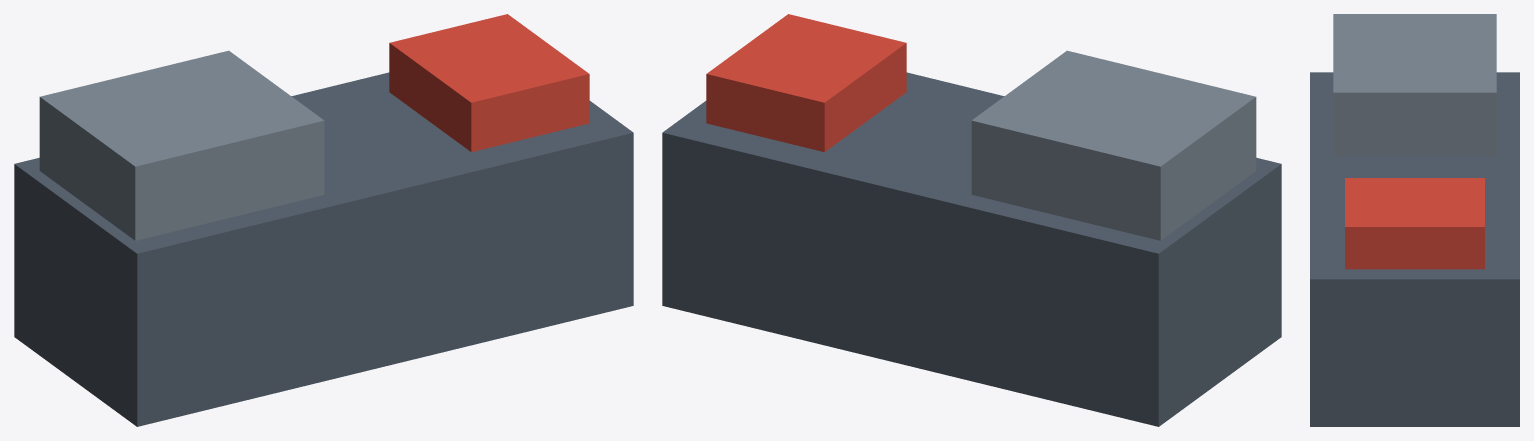
3 views of the same model, side by side, from view 1: azimuth 30°, elevation 25°; view 2: azimuth 150°, elevation 25°; view 3: azimuth 270°, elevation 25° (orthographic). The views are drawn at different scales.
Visible parts, largest first — view 1: GEO_module_top_accessory_01_LOD0; view 2: GEO_module_top_accessory_01_LOD0; view 3: GEO_module_top_accessory_01_LOD0.
Boxes of the visible parts, left/top/right/bottom form: GEO_module_top_accessory_01_LOD0: left=14, top=14, right=633, bottom=426; GEO_module_top_accessory_01_LOD0: left=662, top=14, right=1281, bottom=426; GEO_module_top_accessory_01_LOD0: left=1310, top=14, right=1519, bottom=426.
Size of the model in its own units: 0.042 by 0.02 by 0.018.
